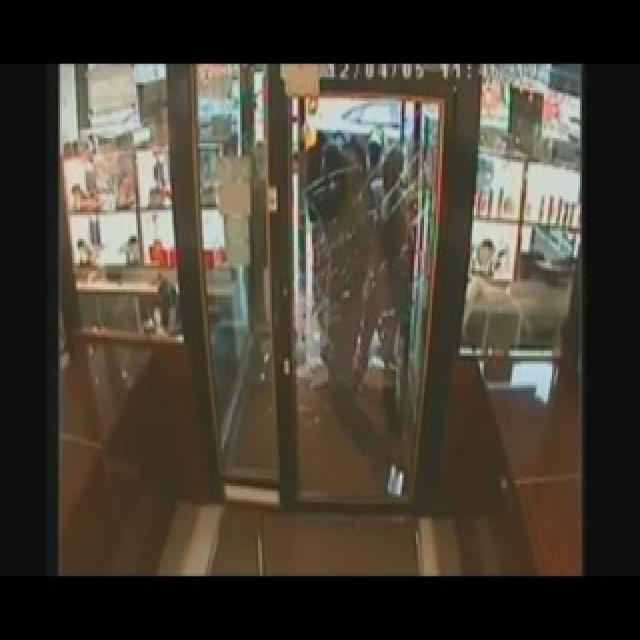thief: (308, 128, 407, 428)
